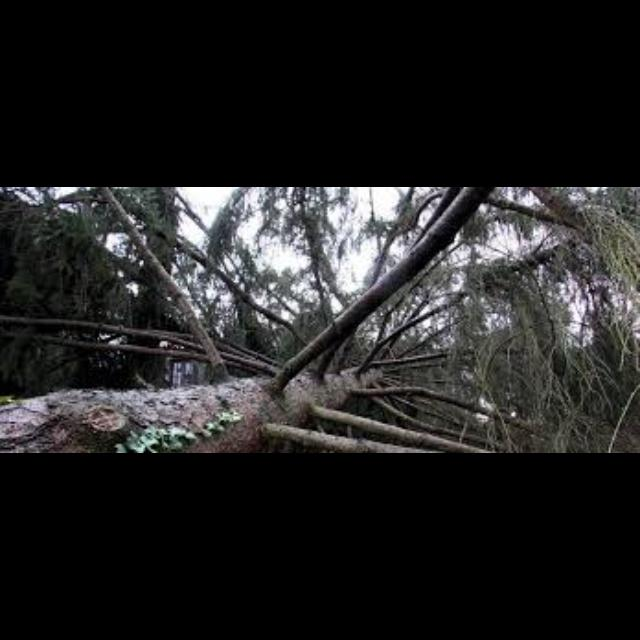Fallen Tree: (0, 352, 395, 452)
